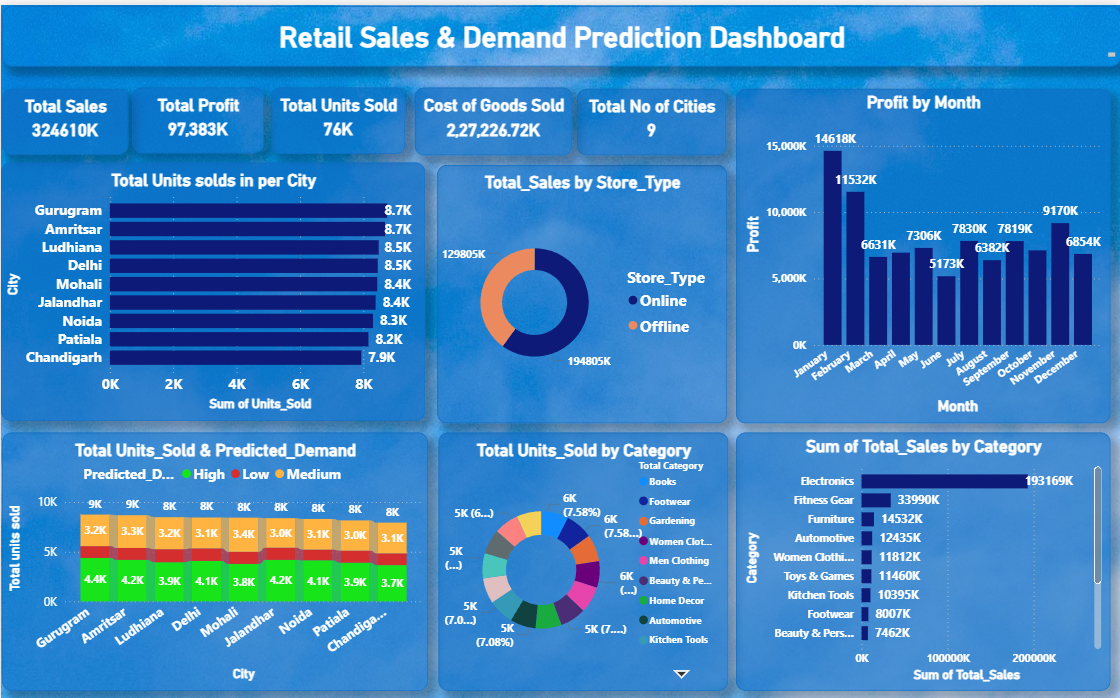

The page's visual inventory and layout, read from the dashboard file:
{"tool":"powerbi","page":{"name":"Page 1","canvas":[1280,800],"ordinal":0},"visuals":[{"type":"card","title":"Total Sales","fields":{"Values":["Sum(Dataset Sales.Total_Sales)"]},"box":[1.9,95.6,144.1,75],"z":0},{"type":"card","title":"Total Profit","fields":{"Values":["Sum(Dataset Sales.Profit)"]},"box":[150.4,94.4,150,75],"z":1000},{"type":"card","title":"Total Units Sold","fields":{"Values":["Sum(Dataset Sales.Units_Sold)"]},"box":[309.2,94.4,153.8,76.2],"z":2000},{"type":"card","title":"Cost of Goods Sold","fields":{"Values":["Sum(Dataset Sales.COGS)"]},"box":[472.9,94.4,180,77.5],"z":3000},{"type":"clusteredBarChart","title":"Total Units solds in per City","fields":{"Category":["Dataset Sales.City"],"Y":["Sum(Dataset Sales.Units_Sold)"]},"box":[0.4,180.7,485,295],"z":4000},{"type":"donutChart","title":"Total_Sales by Store_Type","fields":{"Y":["Sum(Dataset Sales.Total_Sales)"],"Category":["Dataset Sales.Store_Type"]},"box":[497.9,183.2,331.2,295],"z":5000},{"type":"columnChart","title":"Total Units_Sold & Predicted_Demand","fields":{"Series":["Dataset Sales.Predicted_Demand_Level"],"Category":["Dataset Sales.City"],"Y":["Sum(Dataset Sales.Units_Sold)"]},"box":[1.7,488.2,486.2,295],"z":6000},{"type":"donutChart","fields":{"Category":["Dataset Sales.Category"],"Y":["Sum(Dataset Sales.Units_Sold)"]},"box":[500.4,488.2,331.2,295],"z":7000},{"type":"card","title":"Total No of Cities","fields":{"Values":["Count(Dataset Sales.City)"]},"box":[659.2,95.7,170,76.2],"z":8000},{"type":"columnChart","fields":{"Category":["Dataset Sales.Order_Date.Variation.Date Hierarchy.Month"],"Y":["Sum(Dataset Sales.Profit)"]},"box":[840.2,95.6,427.9,382.4],"z":9000},{"type":"clusteredBarChart","fields":{"Category":["Dataset Sales.Category"],"Y":["Sum(Dataset Sales.Total_Sales)"]},"box":[840.2,488.3,427.9,295.6],"z":10000},{"type":"textbox","title":"Retail Sales & Demand Prediction Dashboard","box":[1.9,0.9,1278.6,68.6],"z":11000}]}

Visuals, with their boxes in screenshot pixels (x1, y1, x2, y2), scaled from the page's 1280x800 canvas onto the 1120x698 screenshot:
"Total Sales" card: [2,83,128,149]
"Total Profit" card: [132,82,263,148]
"Total Units Sold" card: [271,82,405,149]
"Cost of Goods Sold" card: [414,82,571,150]
"Total Units solds in per City" clusteredBarChart: [0,158,425,415]
"Total_Sales by Store_Type" donutChart: [436,160,725,417]
"Total Units_Sold & Predicted_Demand" columnChart: [1,426,427,683]
donutChart - Dataset Sales.Category x Sum(Dataset Sales.Units_Sold): [438,426,728,683]
"Total No of Cities" card: [577,83,726,150]
columnChart - Dataset Sales.Order_Date.Variation.Date Hierarchy.Month x Sum(Dataset Sales.Profit): [735,83,1110,417]
clusteredBarChart - Dataset Sales.Category x Sum(Dataset Sales.Total_Sales): [735,426,1110,684]
"Retail Sales & Demand Prediction Dashboard" textbox: [2,1,1119,61]
